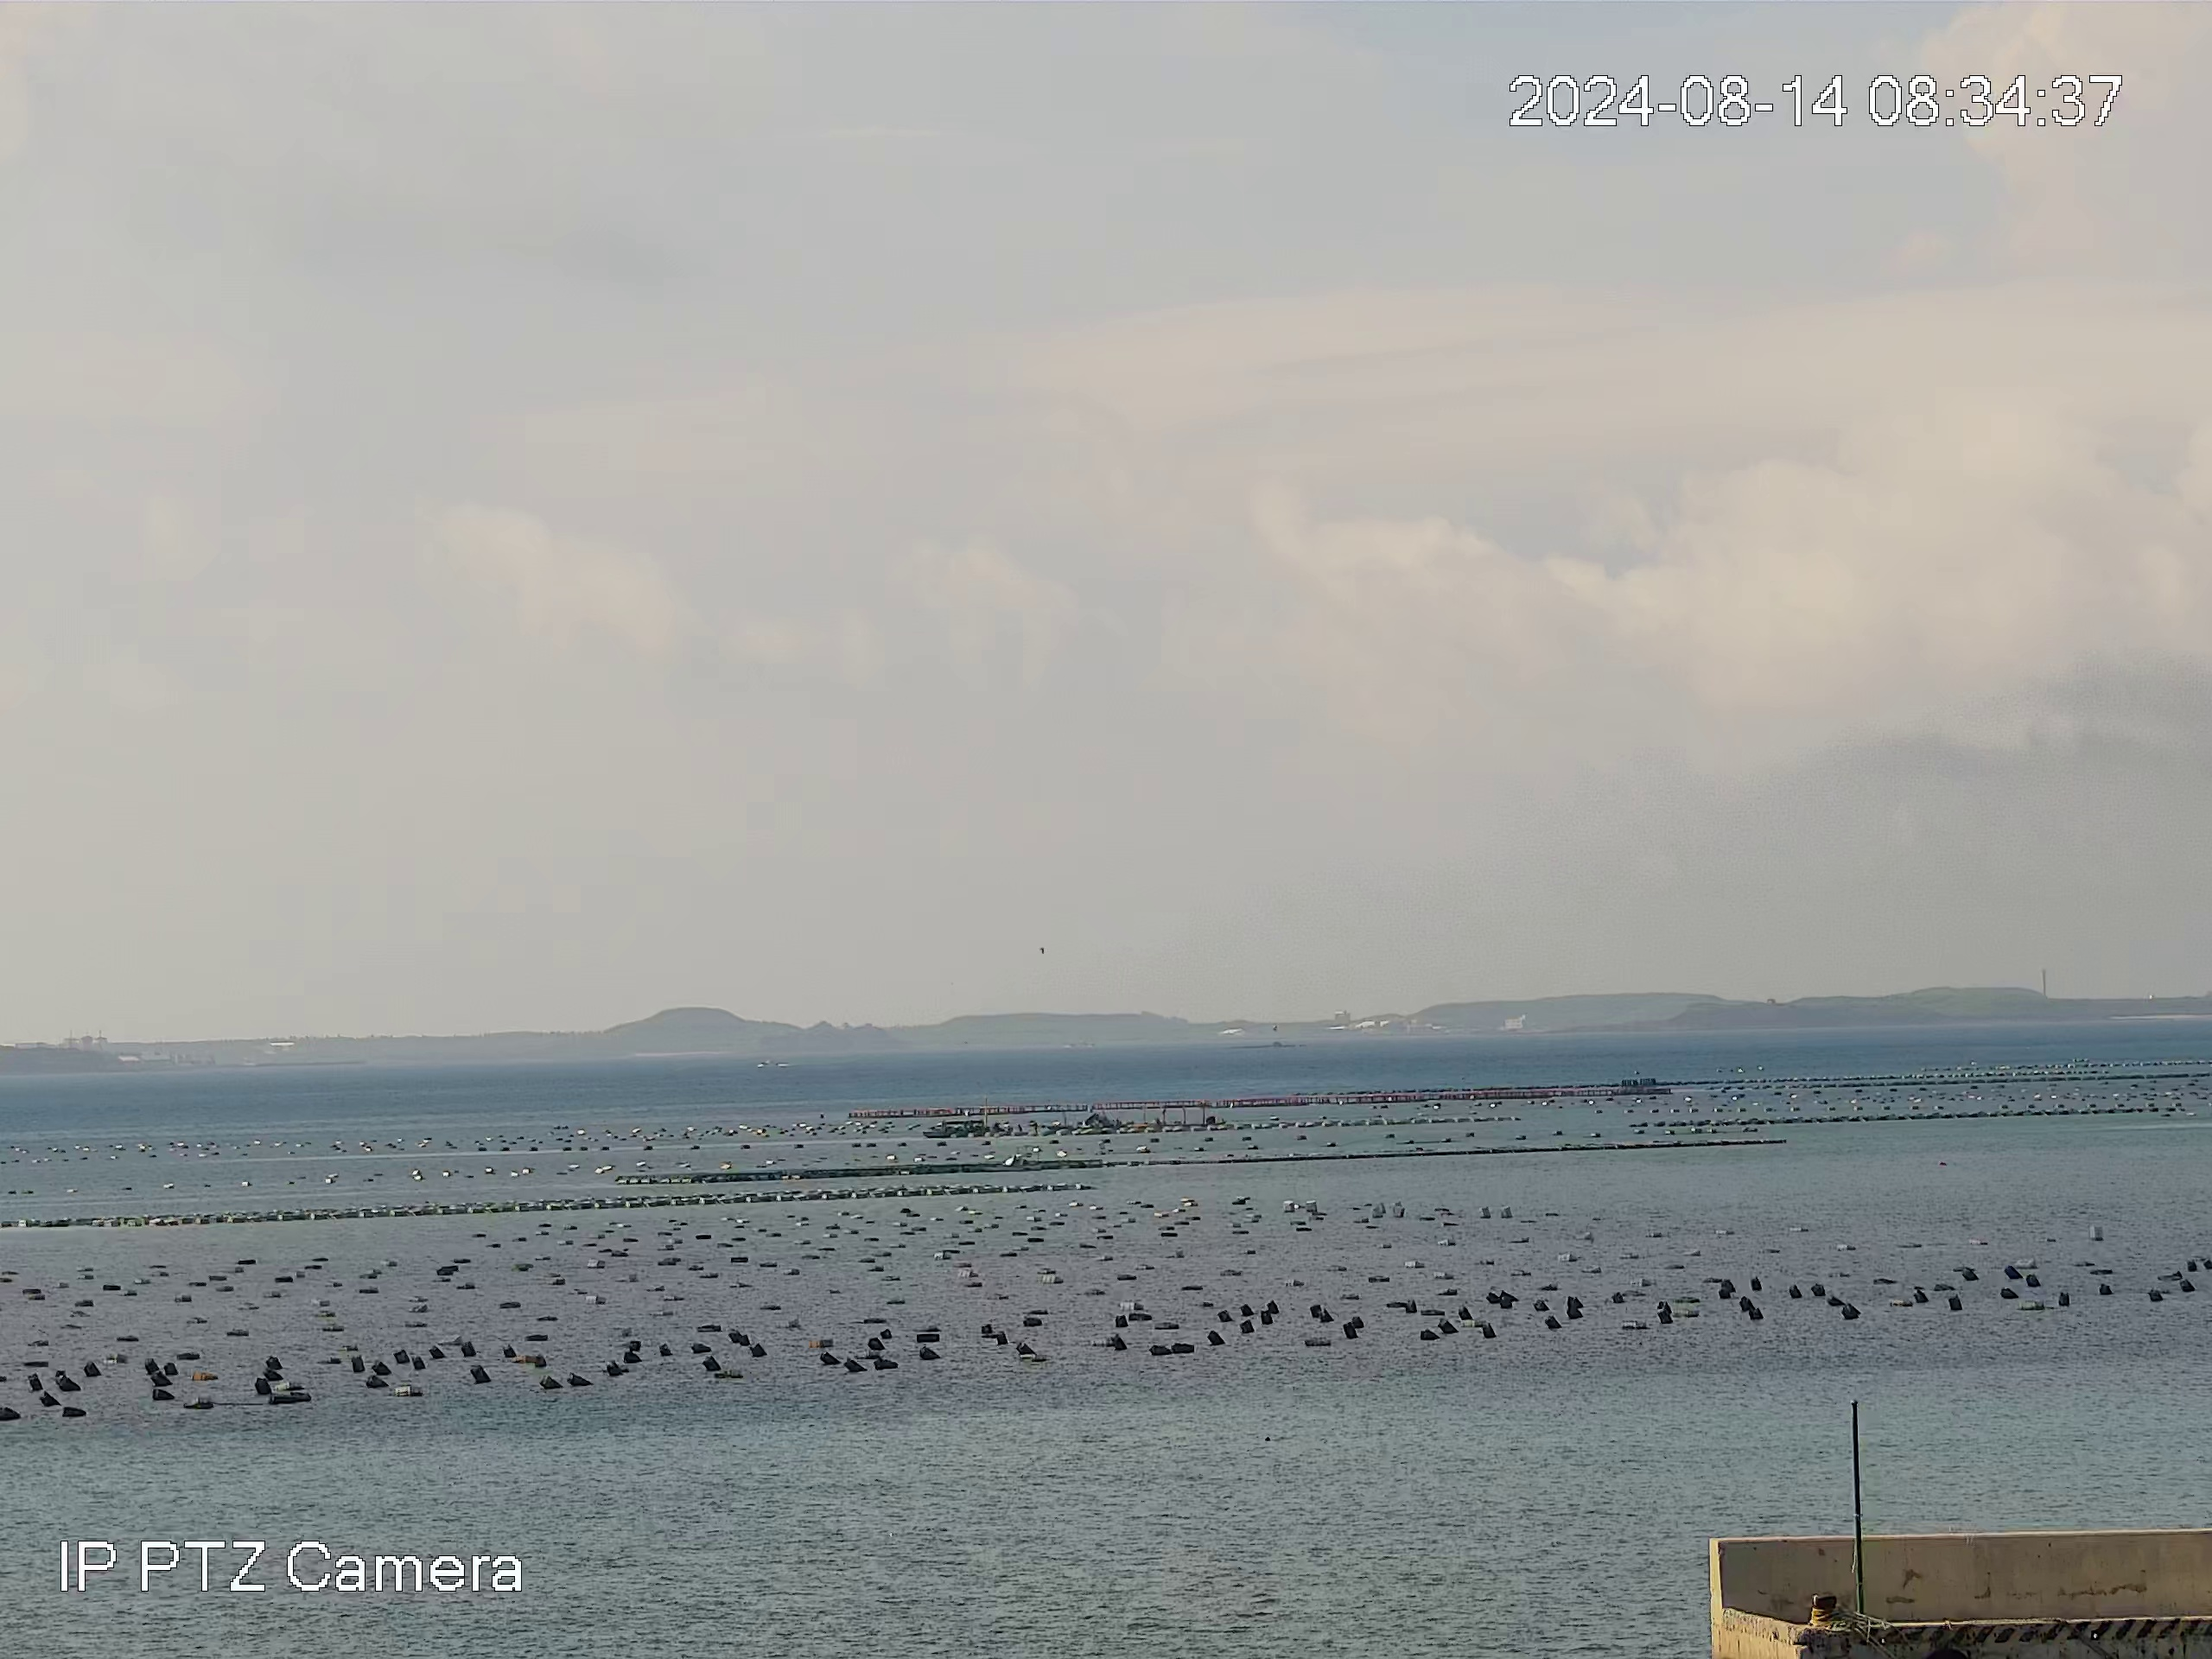boat: (920, 1121, 989, 1141)
